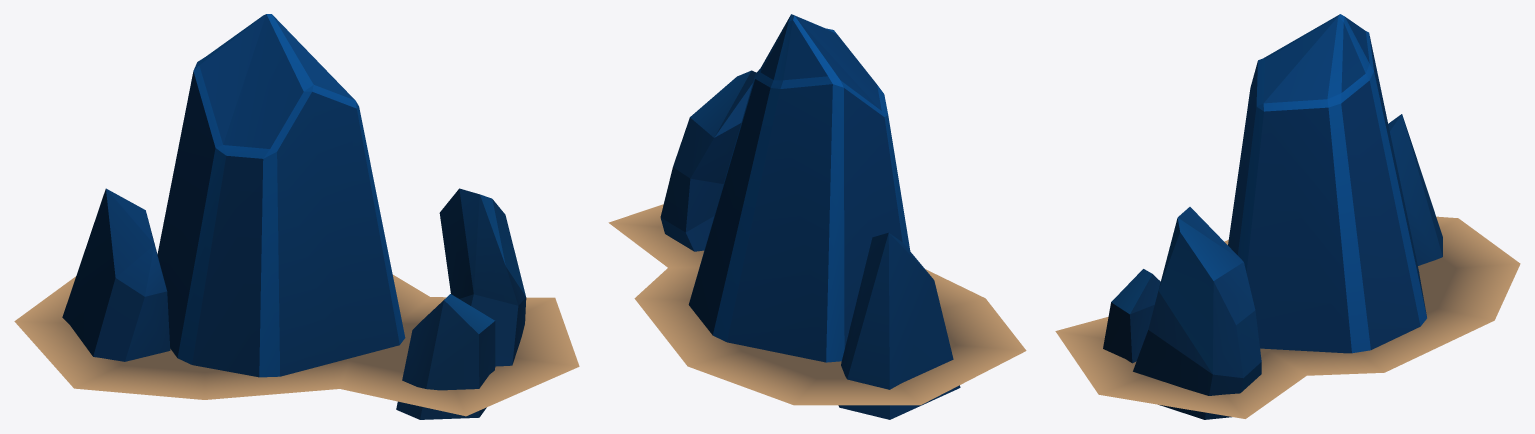
File: Stone_Small.fbx
3 renders of one model, left to right at view 1: azimuth 30°, elevation 25°; view 2: azimuth 150°, elevation 25°; view 3: azimuth 270°, elevation 25°, orthographic. The views are drawn at different scales.
Parts seen in each view (by area): view 1: Stone_Small; view 2: Stone_Small; view 3: Stone_Small.
Part boxes in pixels (x1=…): Stone_Small: x1=14, y1=14, x2=579, y2=419; Stone_Small: x1=608, y1=14, x2=1026, y2=419; Stone_Small: x1=1055, y1=14, x2=1520, y2=419.
Bounding box in the file's own units: 2983 × 2089 × 2764.
